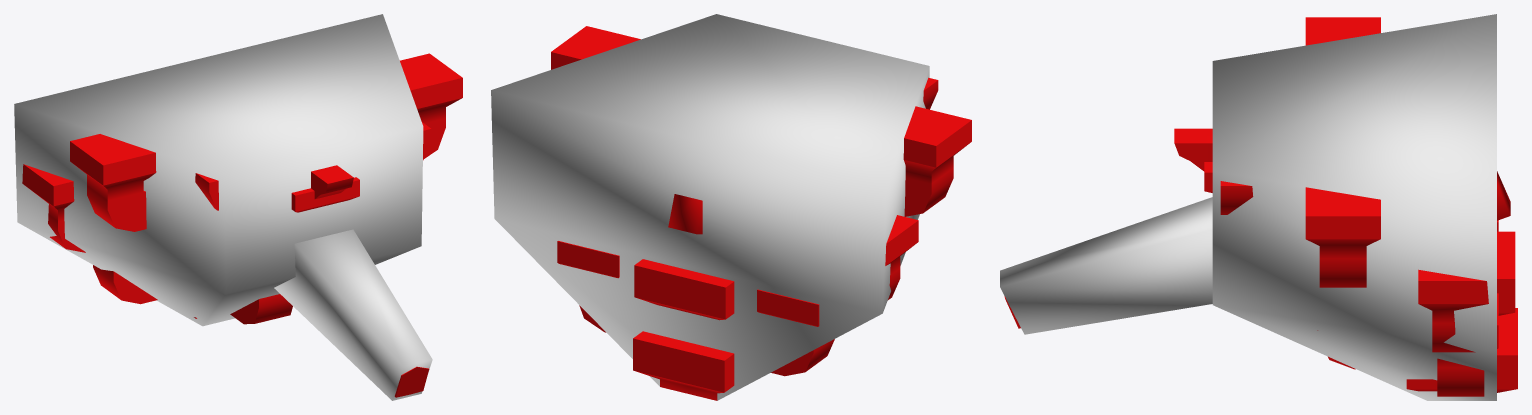
Rendered from Column_A_Kumimono_02.fbx.
3 views of the same model, side by side, from view 1: azimuth 30°, elevation 25°; view 2: azimuth 150°, elevation 25°; view 3: azimuth 270°, elevation 25° (orthographic). The views are drawn at different scales.
Parts seen in each view (by area): view 1: C_Column_A_Kumimono_02, Column_A_Kumimono_02; view 2: C_Column_A_Kumimono_02, Column_A_Kumimono_02; view 3: C_Column_A_Kumimono_02, Column_A_Kumimono_02.
Part boxes in pixels (box(x1,y1,x2,y2)): C_Column_A_Kumimono_02: box(14, 14, 432, 400); Column_A_Kumimono_02: box(22, 53, 462, 397); C_Column_A_Kumimono_02: box(491, 14, 929, 400); Column_A_Kumimono_02: box(551, 26, 971, 400); C_Column_A_Kumimono_02: box(1000, 14, 1496, 400); Column_A_Kumimono_02: box(1004, 17, 1517, 396).
Size of the model in its own units: 1.64 by 1.02 by 1.76.
